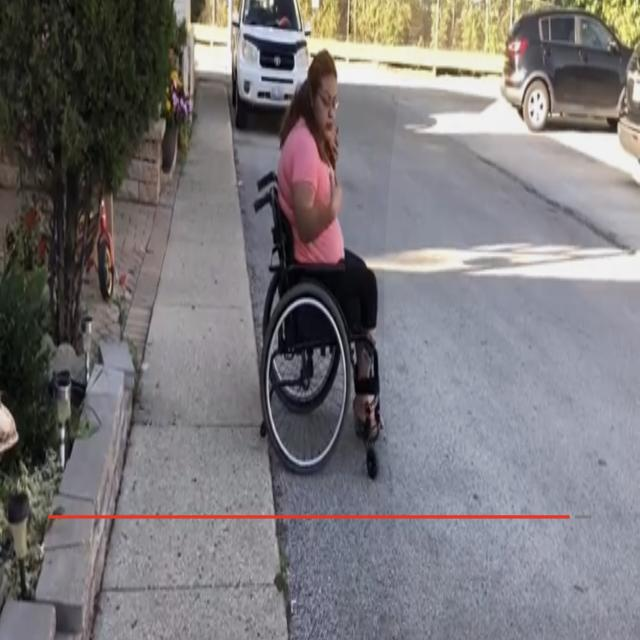wheelchairs: (252, 170, 386, 486)
